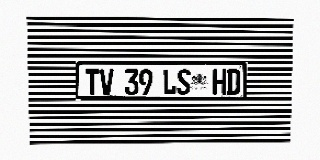3: (125, 69, 139, 95)
9: (139, 69, 153, 95)
D: (227, 69, 240, 95)
H: (213, 69, 226, 95)
L: (163, 69, 176, 95)
S: (177, 69, 191, 95)
T: (85, 69, 99, 95)
V: (100, 69, 114, 95)
